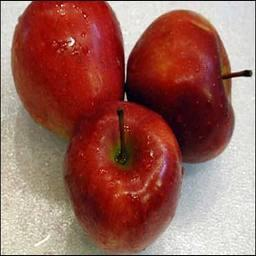apple: (65, 100, 184, 252), (127, 9, 240, 162), (10, 1, 125, 134)
